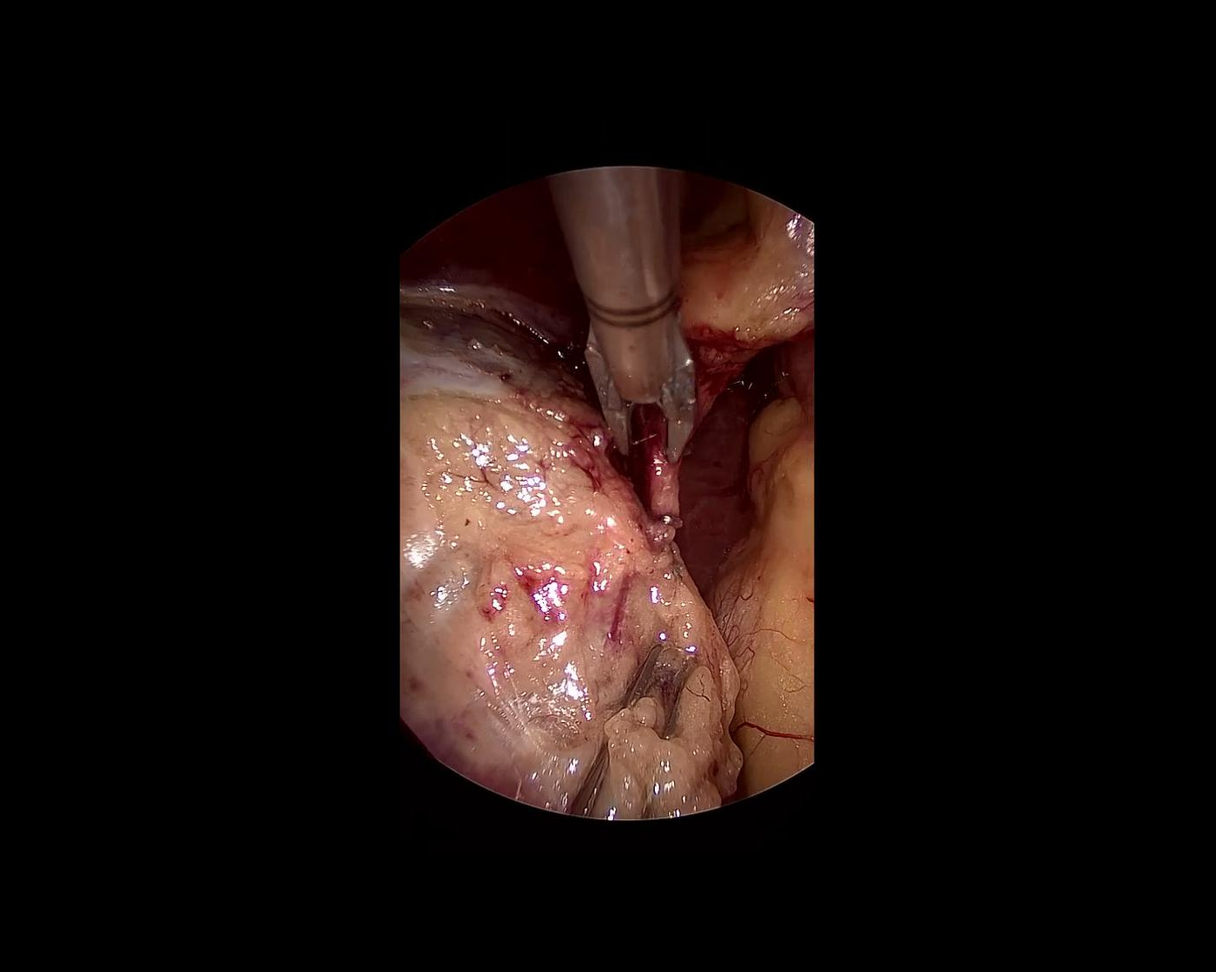Forceps: (563, 624, 723, 845)
Gallbladder: (398, 309, 744, 823)
Liver: (382, 180, 599, 410), (659, 343, 786, 590)
